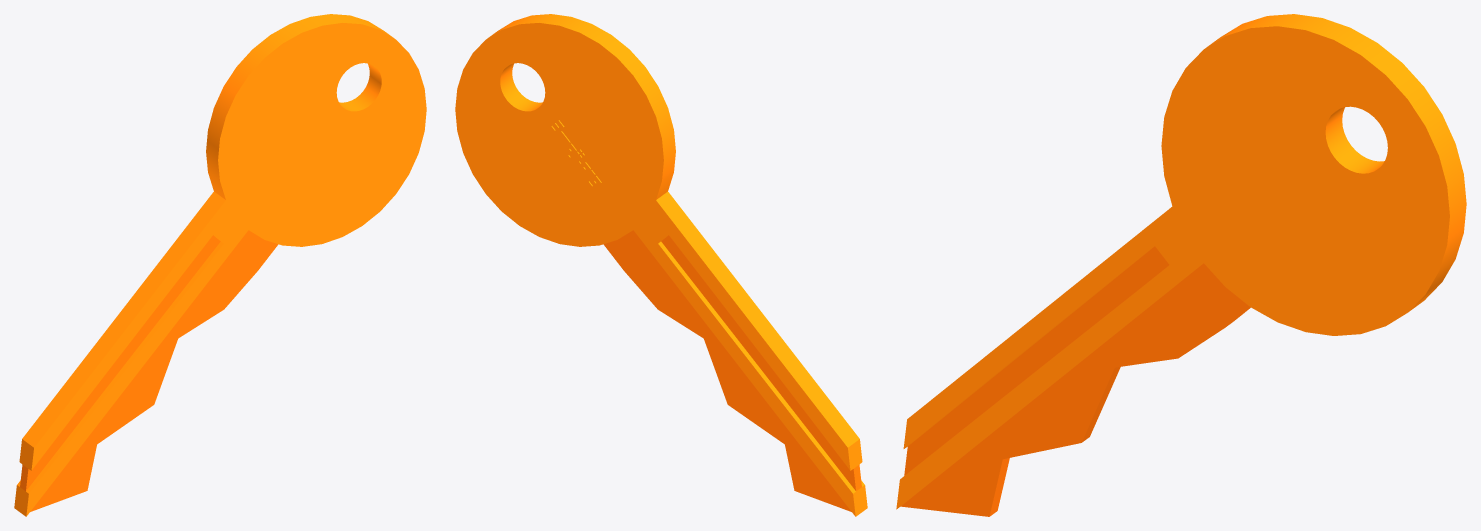
The model's file is key.gltf.
3 views of the same model, side by side, from view 1: azimuth 30°, elevation 25°; view 2: azimuth 150°, elevation 25°; view 3: azimuth 330°, elevation 25° (orthographic). The views are drawn at different scales.
Parts seen in each view (by area): view 1: key; view 2: key; view 3: key.
Part boxes in pixels (bbox=[...]): key: bbox=[14, 14, 426, 516]; key: bbox=[455, 14, 867, 516]; key: bbox=[896, 14, 1466, 516].
Bounding box in the file's own units: 2.15 × 2.15 × 0.1188.
Materials: 1 (1 with a texture image).
